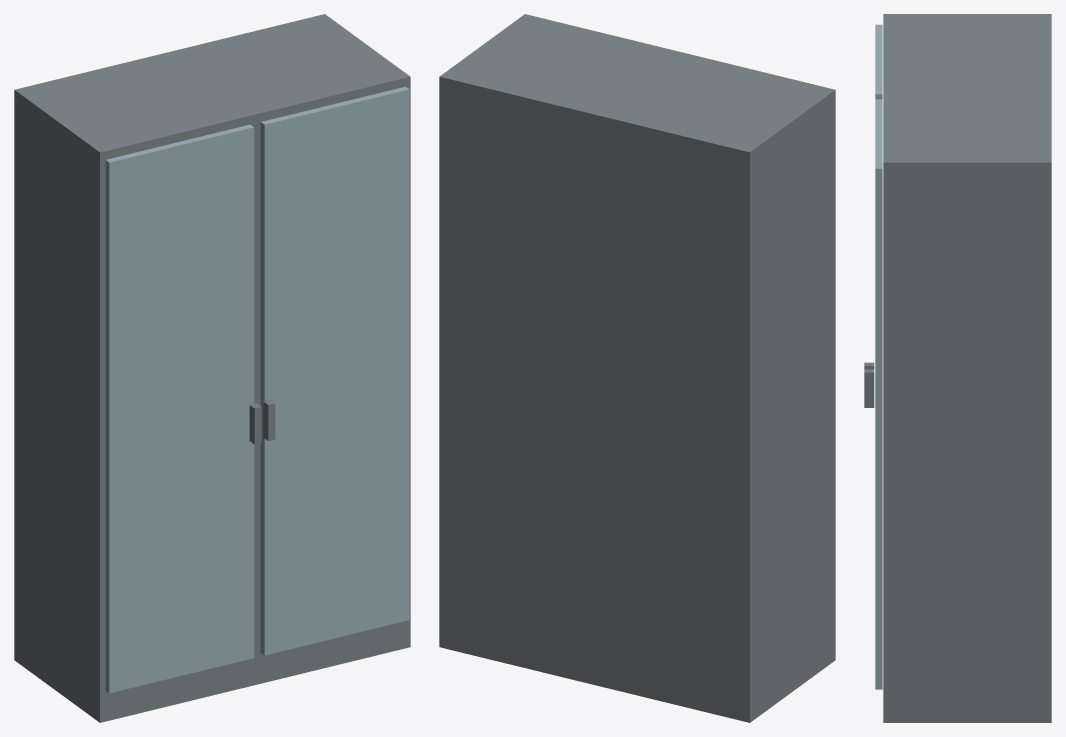
Rendered from SCI-003.glb.
3 views of the same model, side by side, from view 1: azimuth 30°, elevation 25°; view 2: azimuth 150°, elevation 25°; view 3: azimuth 270°, elevation 25° (orthographic).
Visible parts, largest first — view 1: 000_Cabinet_body, 001_Cabinet_door_L, 002_Cabinet_door_R; view 2: 000_Cabinet_body; view 3: 000_Cabinet_body, 002_Cabinet_door_R, 001_Cabinet_door_L, 007_Door_pull.
Part boxes in pixels (x1,y1,x2,y2): 000_Cabinet_body: (14, 14, 410, 722); 001_Cabinet_door_L: (105, 124, 254, 693); 002_Cabinet_door_R: (260, 86, 409, 655); 000_Cabinet_body: (439, 14, 835, 722); 000_Cabinet_body: (883, 14, 1051, 722); 002_Cabinet_door_R: (875, 99, 882, 689); 001_Cabinet_door_L: (875, 24, 882, 99); 007_Door_pull: (864, 369, 874, 407).
Bounding box in the file's own units: 0.9 × 1.58 × 0.4785.
